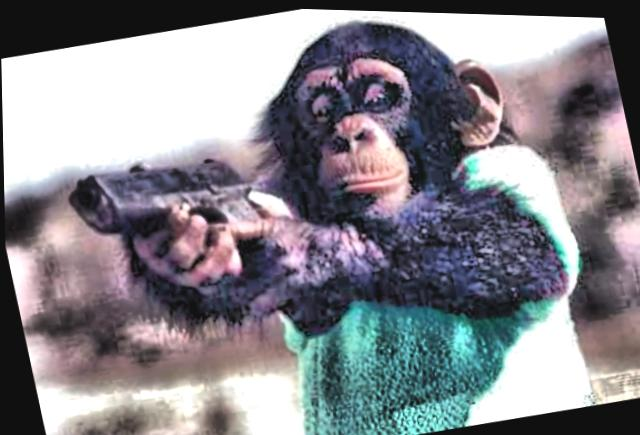pistol: (59, 138, 265, 261)
